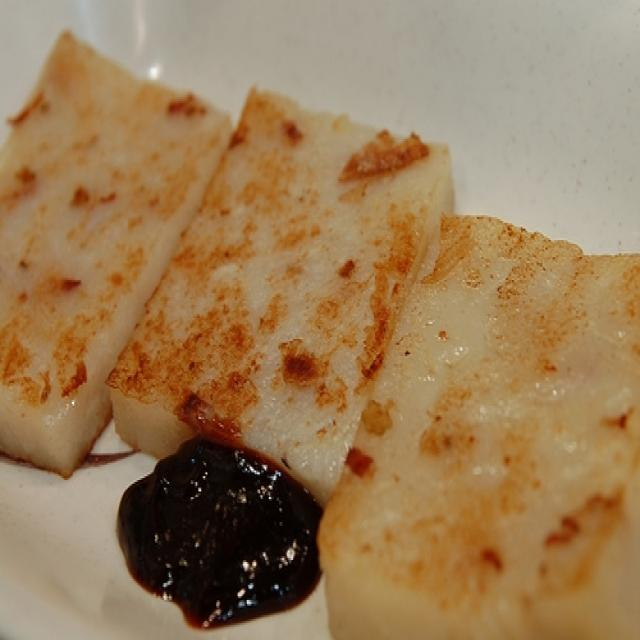蛋糕甜品: (9, 23, 623, 613)
